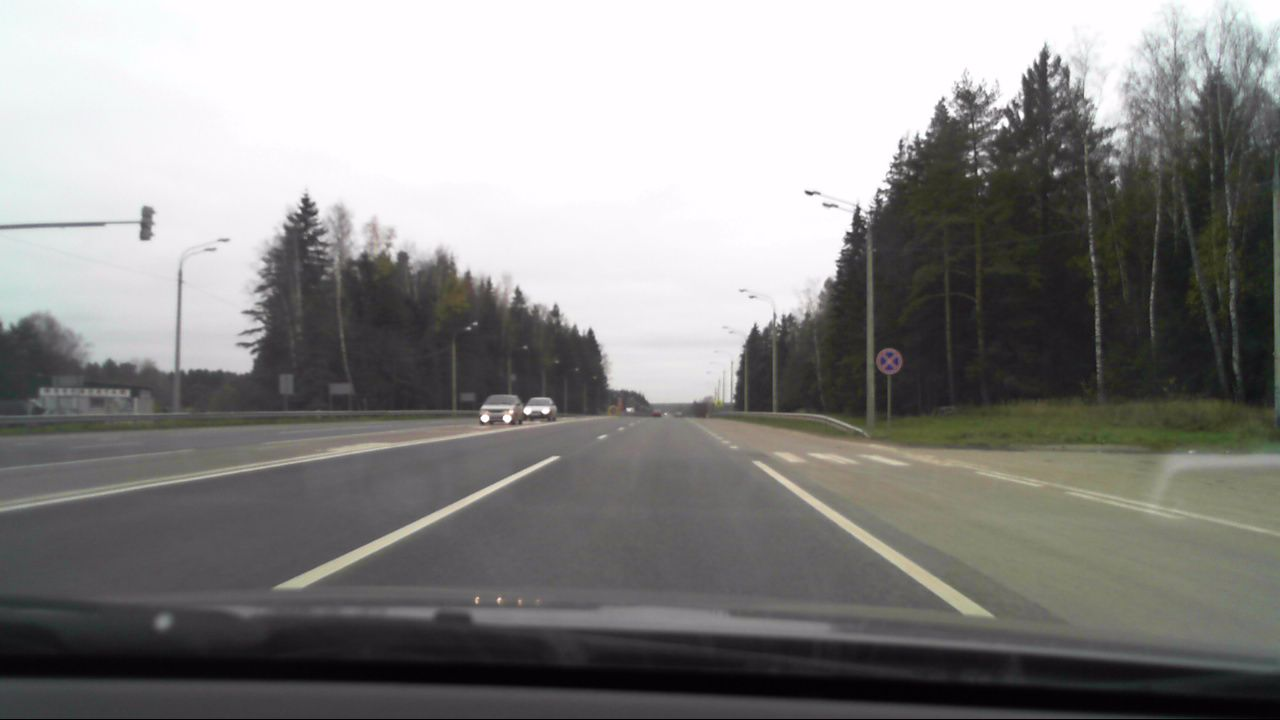No Parking: (874, 346, 902, 374)
